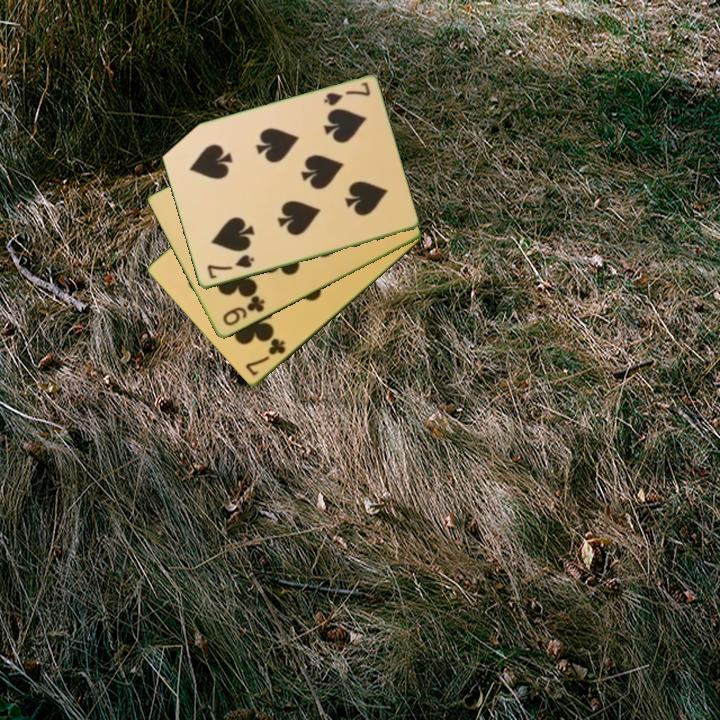7c: (242, 335, 289, 379)
7s: (203, 251, 256, 282), (320, 79, 373, 109)
9c: (219, 293, 268, 329)
